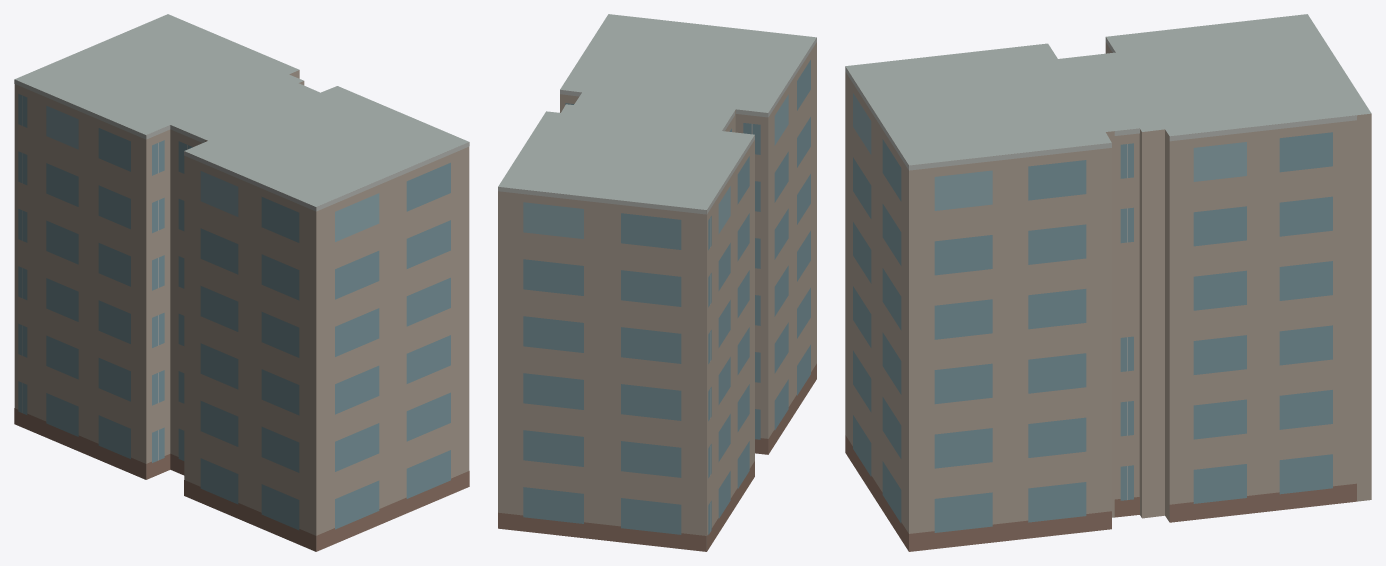
Rendered from survey-upis-32667070.glb.
3 views of the same model, side by side, from view 1: azimuth 30°, elevation 25°; view 2: azimuth 150°, elevation 25°; view 3: azimuth 270°, elevation 25° (orthographic). The views are drawn at different scales.
Parts seen in each view (by area): view 1: survey-upis-32667070.tmp; view 2: survey-upis-32667070.tmp; view 3: survey-upis-32667070.tmp.
Part boxes in pixels (x1=…): survey-upis-32667070.tmp: x1=14, y1=14, x2=469, y2=551; survey-upis-32667070.tmp: x1=498, y1=14, x2=816, y2=551; survey-upis-32667070.tmp: x1=845, y1=14, x2=1371, y2=551.
Size of the model in its own units: 15.74 by 18.7 by 23.1.
